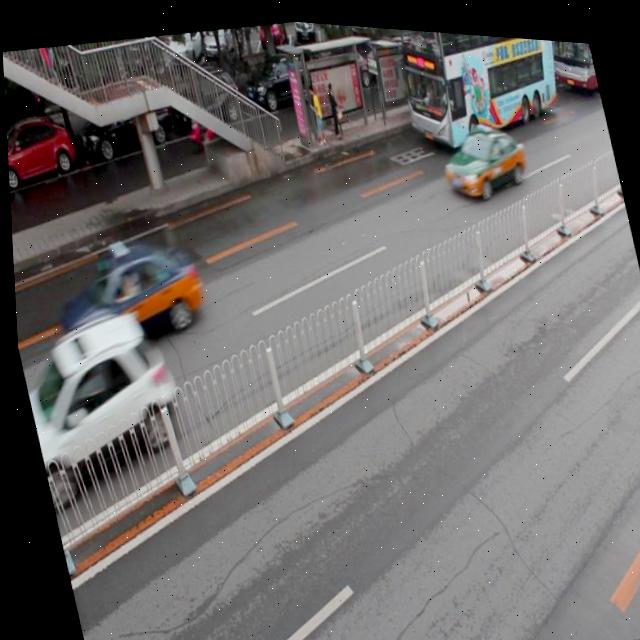car: (18, 305, 185, 494), (38, 226, 208, 357), (434, 106, 531, 198), (73, 82, 175, 165), (5, 111, 80, 199), (237, 43, 319, 114), (171, 60, 244, 134)
van: (386, 22, 573, 154), (542, 32, 598, 84)
